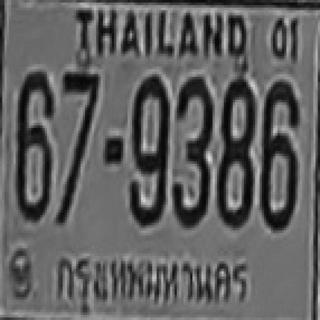N00: (130, 73, 168, 170)
N03: (170, 95, 210, 225), (170, 108, 210, 225)
N07: (61, 70, 98, 155)
N08: (215, 76, 253, 224)
N09: (128, 113, 166, 223)
P04: (50, 251, 258, 314)
